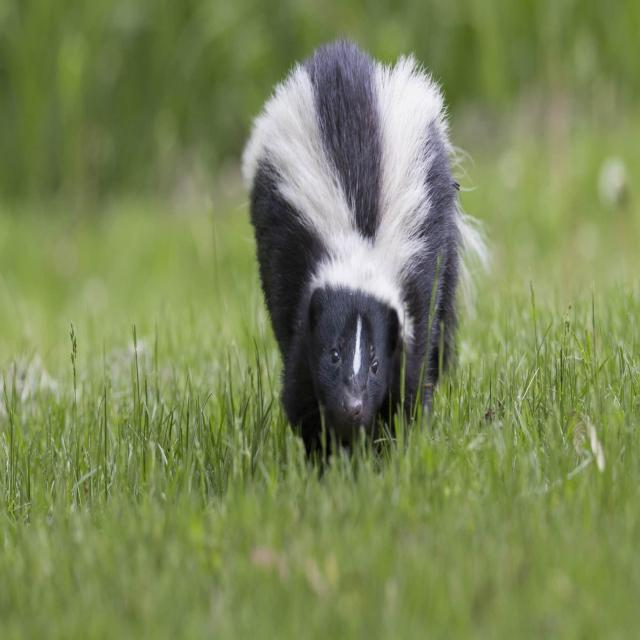Skunk: (238, 34, 481, 496)
